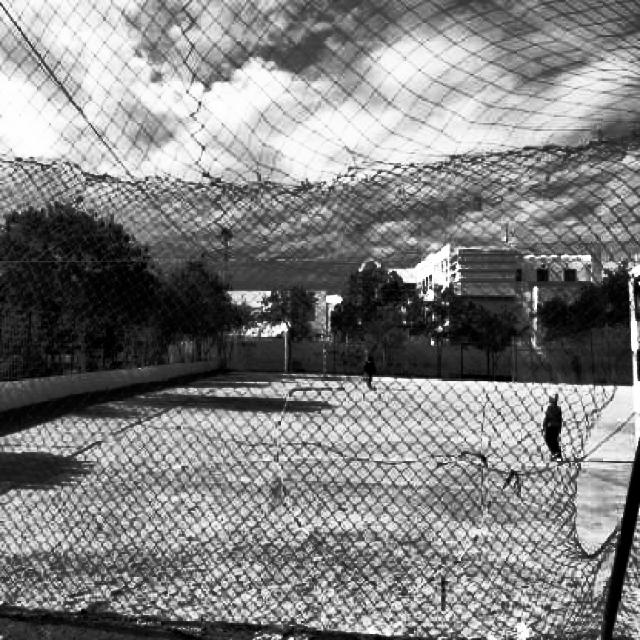anomaly-fence: (534, 359, 640, 601)
